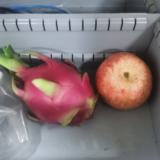apple: (96, 52, 153, 111)
pitaya: (6, 59, 96, 125)
